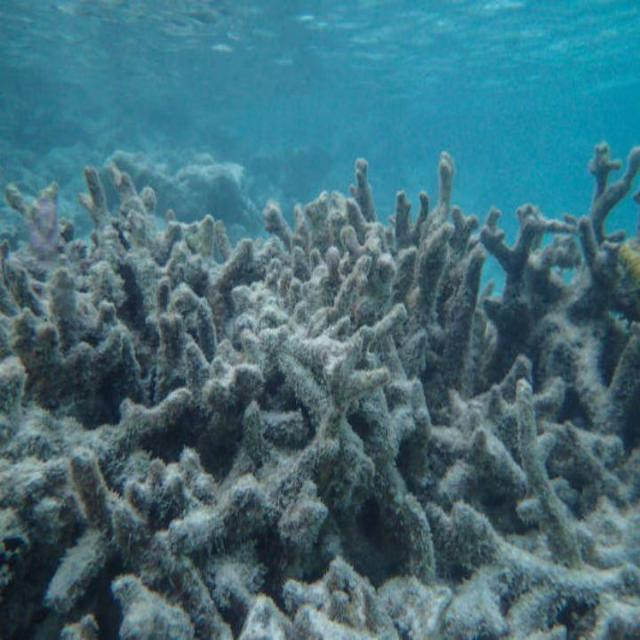Dead Coral: (12, 163, 619, 632)
